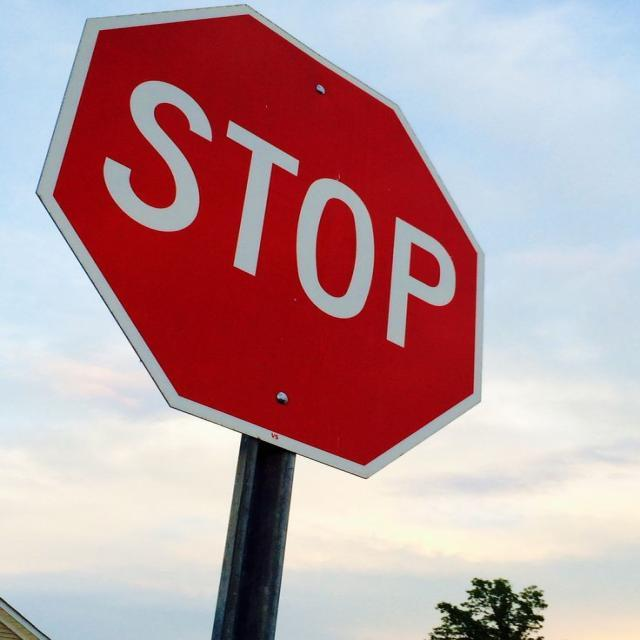stop: (34, 2, 485, 479)
